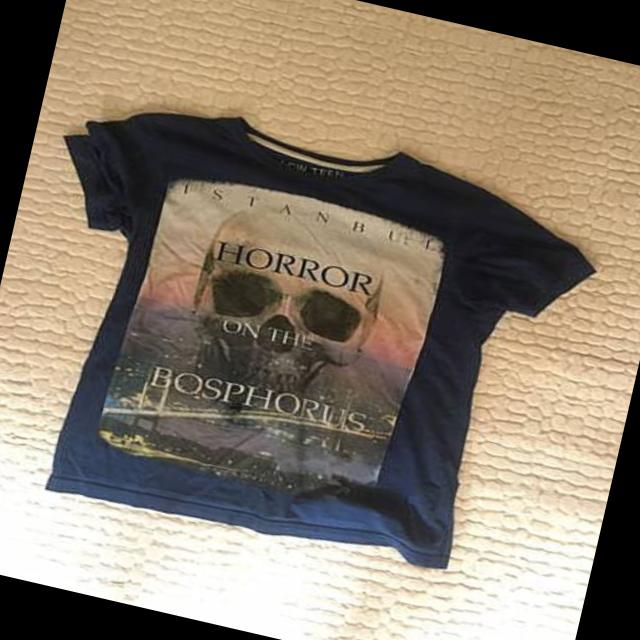T_SHIRT: (0, 67, 623, 608)
